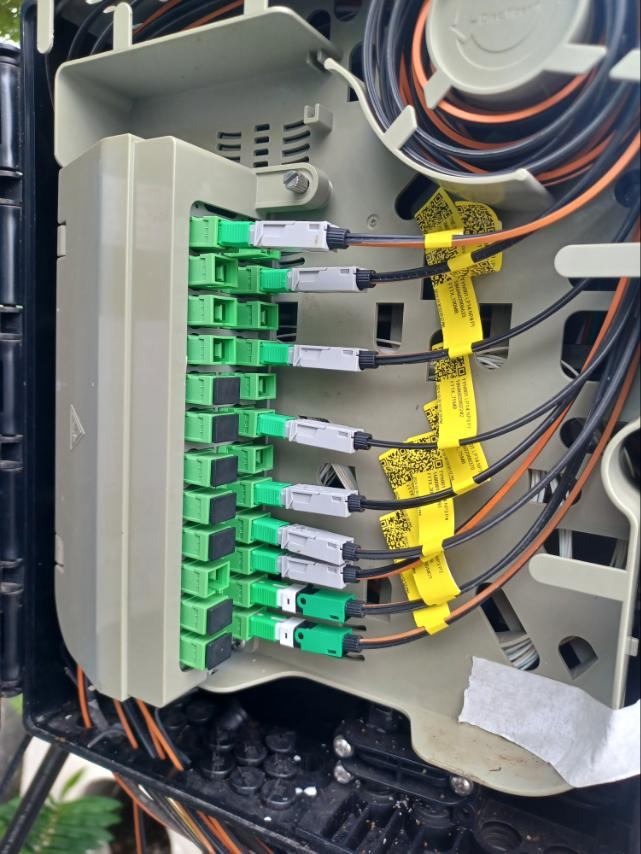no dust cap: (213, 254, 237, 288), (213, 335, 238, 366), (213, 295, 237, 327), (259, 227, 281, 259), (254, 446, 274, 474), (258, 303, 279, 329), (256, 373, 276, 400)
occupied: (252, 514, 362, 570), (249, 611, 362, 663), (252, 577, 365, 627), (252, 548, 366, 593), (262, 411, 370, 458), (258, 475, 362, 520), (218, 219, 346, 254), (262, 339, 381, 376), (258, 261, 377, 294)
vacant: (207, 599, 233, 637), (210, 528, 237, 563), (207, 634, 231, 671), (211, 491, 236, 526), (212, 456, 238, 488), (214, 415, 238, 444), (215, 378, 240, 404)
